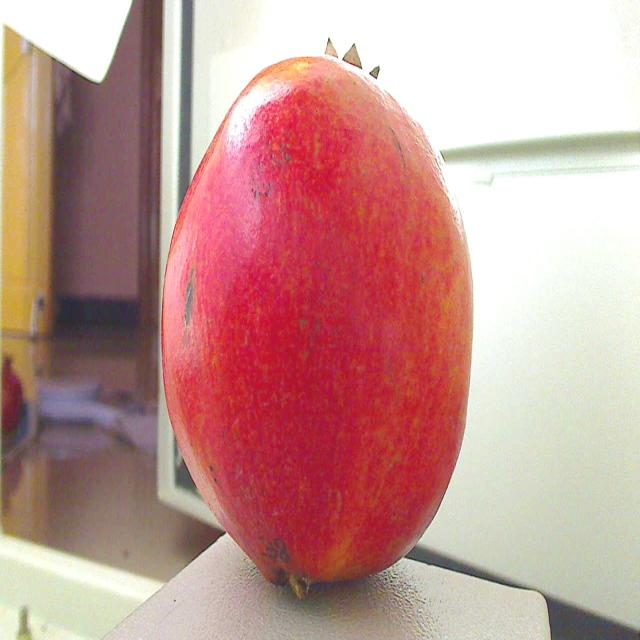pomegranate: (145, 0, 491, 619)
